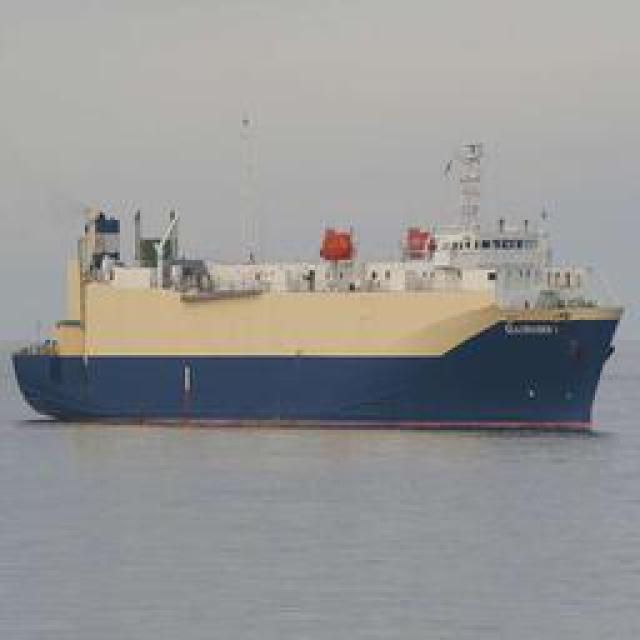Ship: (5, 212, 630, 422)
